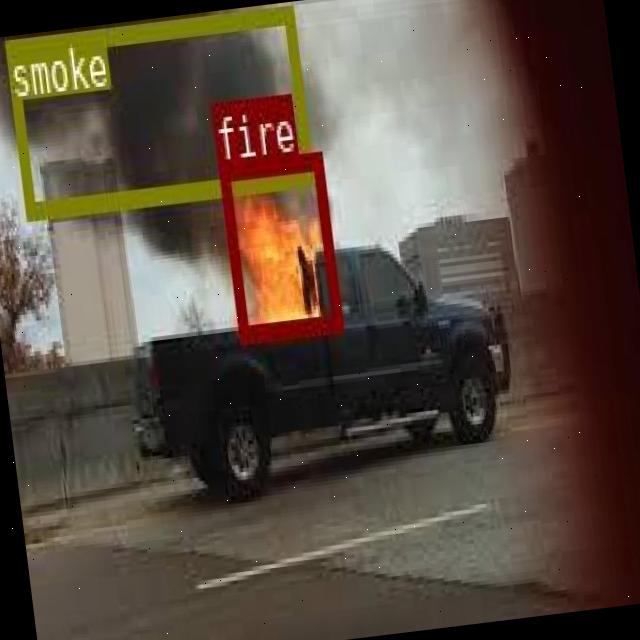fire: (216, 149, 340, 339)
smoke: (3, 3, 311, 216)
